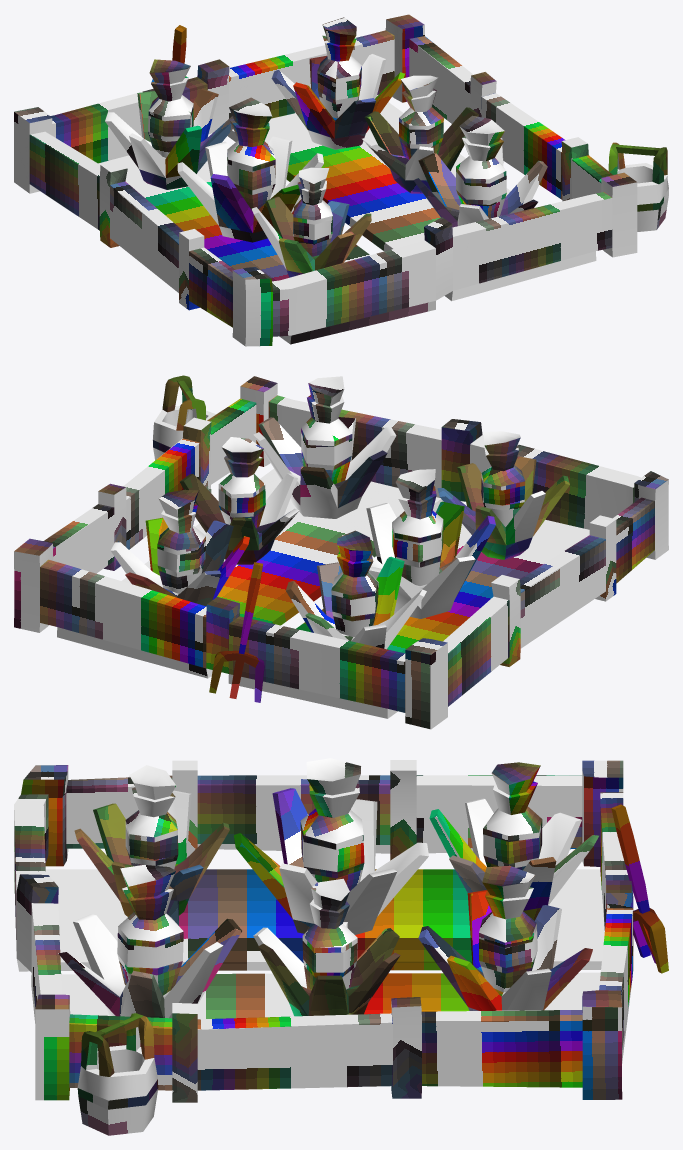
The model's file is NativeFarmAnanas_Alt2.fbx.
3 views of the same model, one above another, from view 1: azimuth 30°, elevation 25°; view 2: azimuth 150°, elevation 25°; view 3: azimuth 270°, elevation 25° (orthographic). The views are drawn at different scales.
Visible parts, largest first — view 1: AnanasFarm_Alt2; view 2: AnanasFarm_Alt2; view 3: AnanasFarm_Alt2.
Boxes of the visible parts, x1,y1,x2,y2 form: AnanasFarm_Alt2: [14, 14, 668, 346]; AnanasFarm_Alt2: [14, 375, 668, 729]; AnanasFarm_Alt2: [14, 758, 668, 1135].
Size of the model in its own units: 230 by 65.19 by 223.
